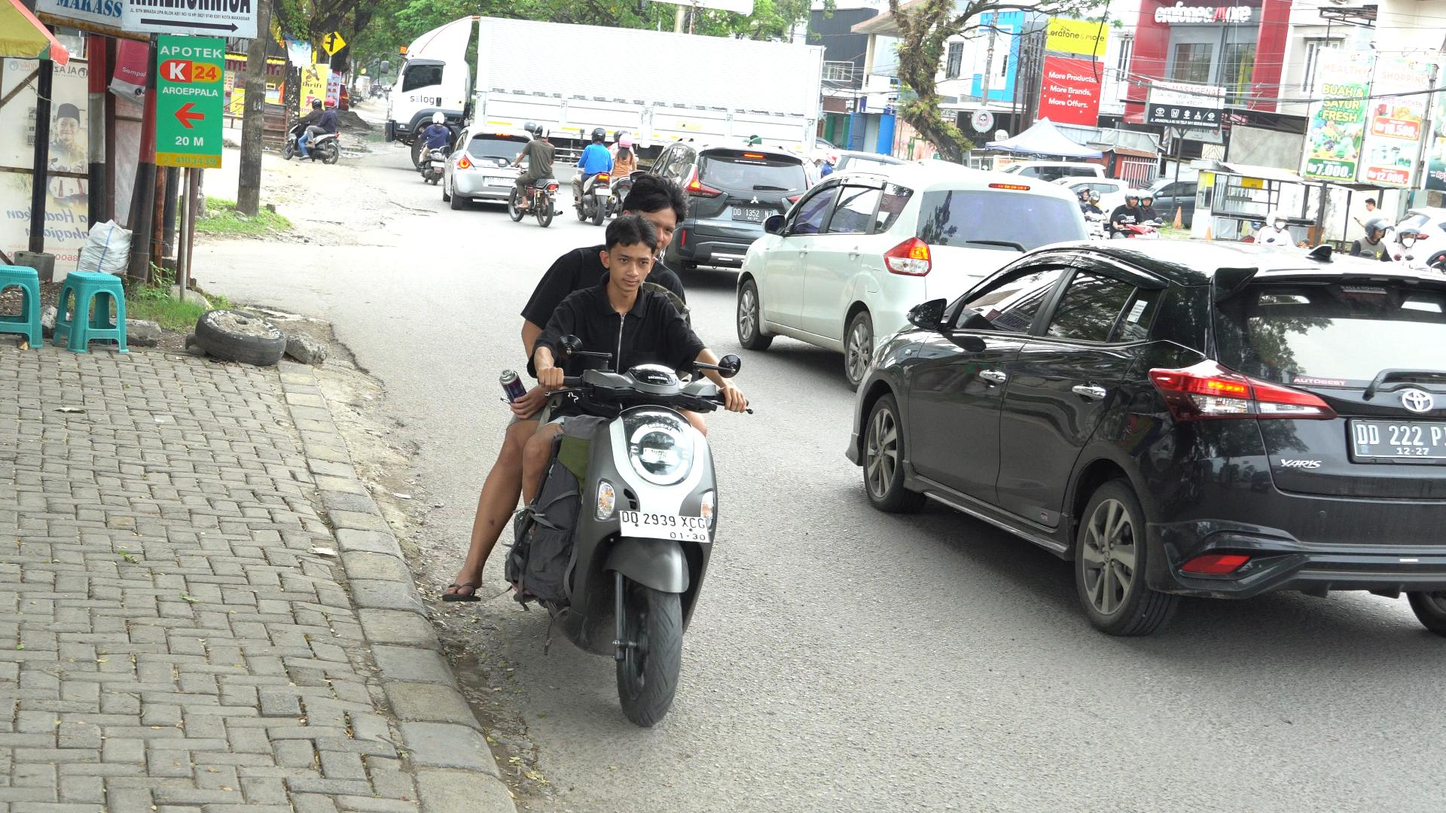number-plate: (615, 508, 716, 544)
